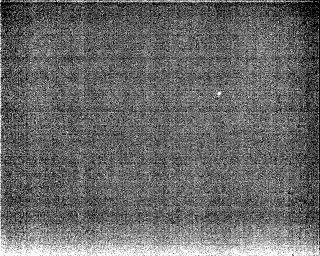BIRD: (215, 89, 224, 98)
